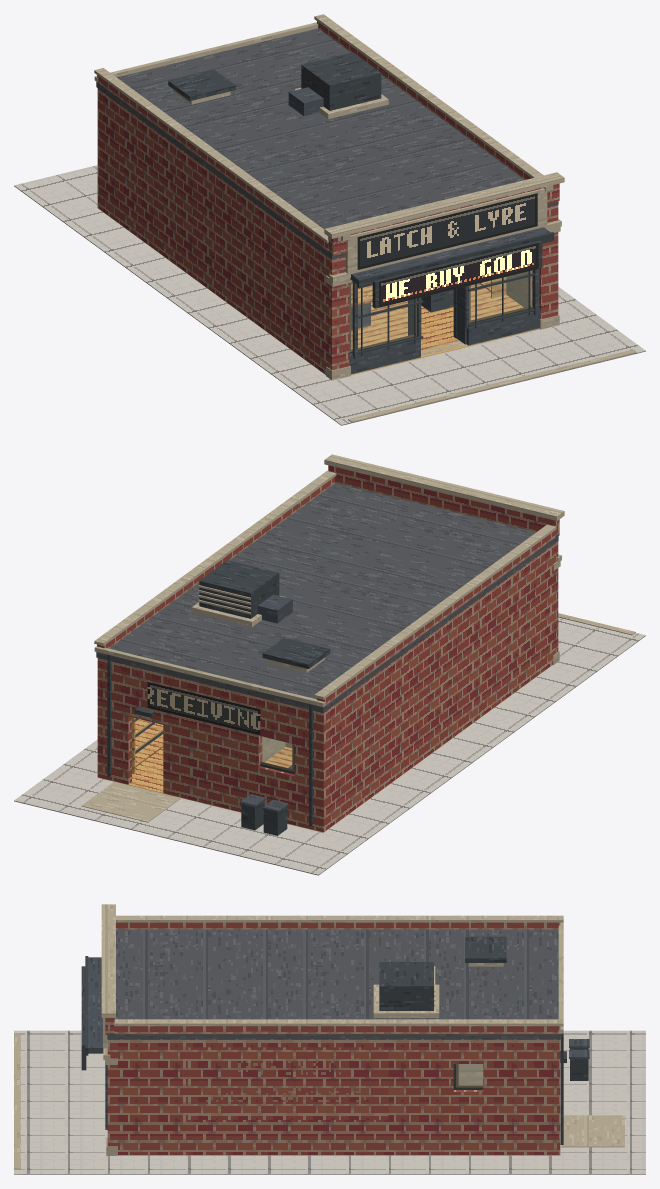
File: latch-and-lyre-2000-mid.glb
3 views of the same model, one above another, from view 1: azimuth 30°, elevation 25°; view 2: azimuth 150°, elevation 25°; view 3: azimuth 270°, elevation 25° (orthographic). The views are drawn at different scales.
Parts seen in each view (by area): view 1: shell, lot, sign_name, fixed_interior, display_window_west, display_window_east, window_bars_west, window_bars_east; view 2: shell, lot, fixed_interior, display_stockroom; view 3: shell, lot, fixed_interior.
Part boxes in pixels (x1,y1,x2,y2): shell: (94, 14, 564, 380); lot: (14, 165, 645, 425); sign_name: (357, 193, 537, 269); fixed_interior: (98, 208, 539, 375); display_window_west: (349, 282, 417, 353); display_window_east: (469, 271, 532, 324); window_bars_west: (358, 287, 423, 355); window_bars_east: (468, 271, 534, 327); shell: (94, 454, 564, 832); lot: (14, 613, 645, 875); fixed_interior: (97, 665, 552, 832); display_stockroom: (132, 717, 163, 774); shell: (81, 904, 566, 1155); lot: (14, 1030, 645, 1174); fixed_interior: (118, 1064, 560, 1155).
Size of the model in its own units: 10.5 by 5.22 by 19.55.
12 materials, 12 textured.
